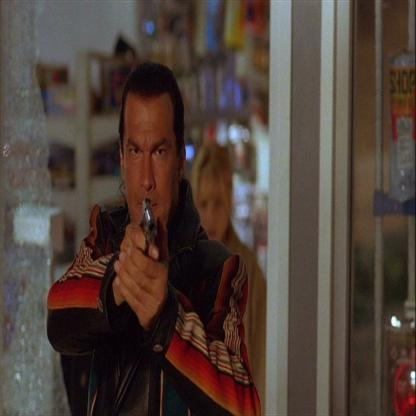gun: (139, 193, 160, 263)
